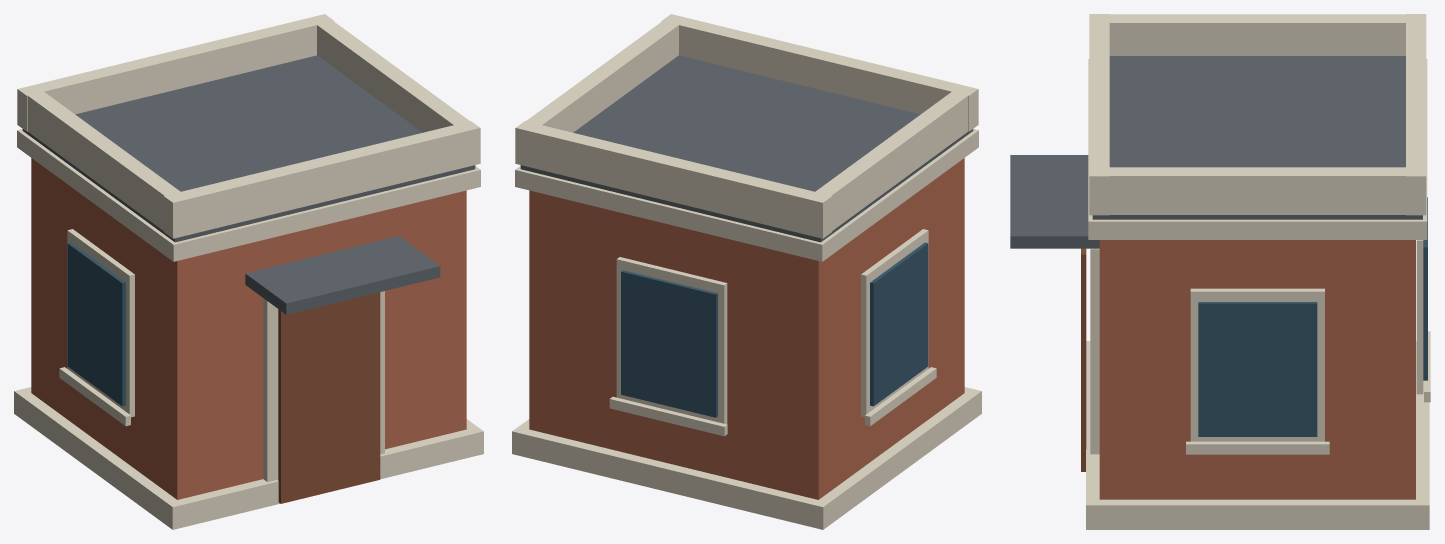
File: 01-minimum.glb
3 renders of one model, left to right at view 1: azimuth 30°, elevation 25°; view 2: azimuth 150°, elevation 25°; view 3: azimuth 270°, elevation 25°, orthographic. The views are drawn at different scales.
Parts seen in each view (by area): view 1: 01-minimum; view 2: 01-minimum; view 3: 01-minimum.
Part boxes in pixels (x1,y1,x2,y2): 01-minimum: (14, 14, 483, 529); 01-minimum: (512, 14, 981, 529); 01-minimum: (1010, 14, 1430, 529).
Bounding box in the file's own units: 3.46 × 3.44 × 3.72.
